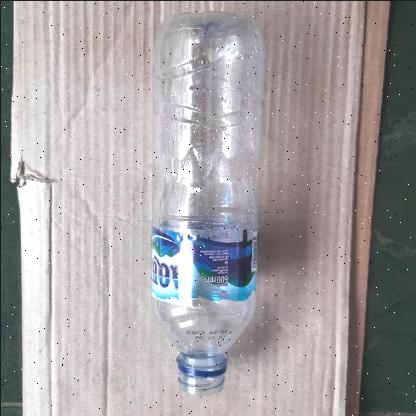Plastic Bottle: (148, 9, 260, 394)
